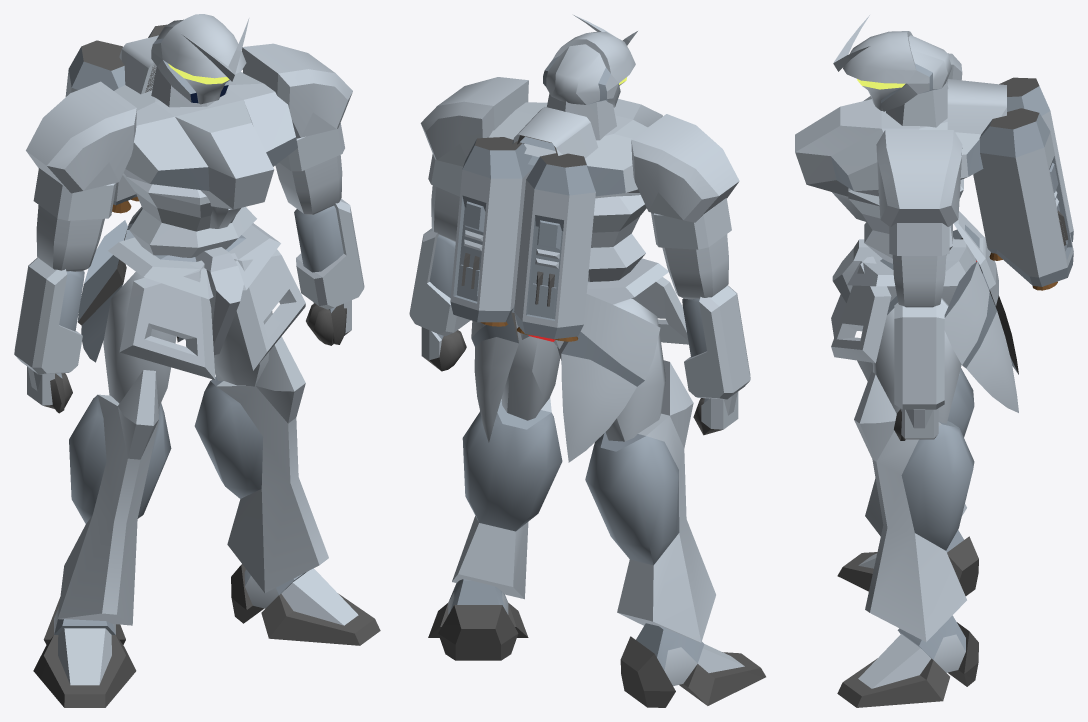
The model's file is robo1.fbx.
3 renders of one model, left to right at view 1: azimuth 30°, elevation 25°; view 2: azimuth 150°, elevation 25°; view 3: azimuth 270°, elevation 25°, orthographic. The views are drawn at different scales.
Parts seen in each view (by area): view 1: obj1, obj2, obj4; view 2: obj1, obj2, obj4; view 3: obj1, obj2, obj4.
Boxes of the visible parts, x1,y1,x2,y2 form: obj1: (14,14,364,685); obj2: (54,27,343,634); obj4: (33,24,380,707); obj1: (409,14,750,686); obj2: (429,56,709,670); obj4: (423,135,765,707); obj1: (795,15,1073,688); obj2: (831,63,1073,659); obj4: (837,77,1068,707).
Bounding box in the file's own units: 10.81 × 19.85 × 8.29.
